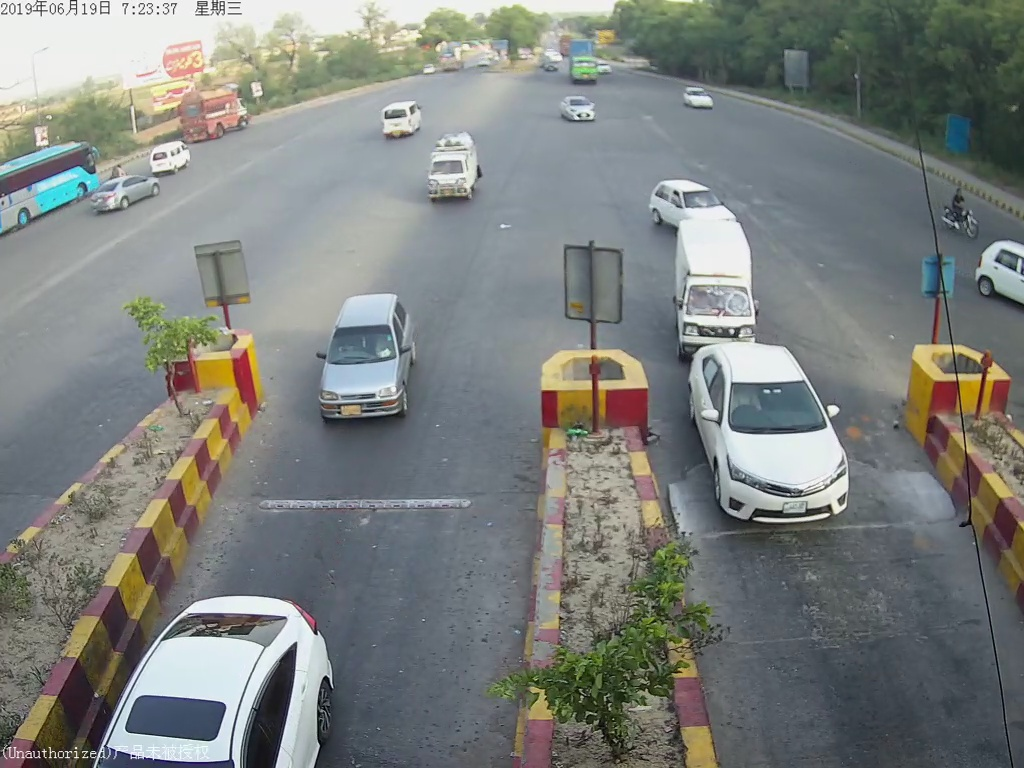Cat-1: (686, 350, 864, 534), (315, 298, 419, 428), (669, 217, 764, 338), (419, 136, 483, 209)
